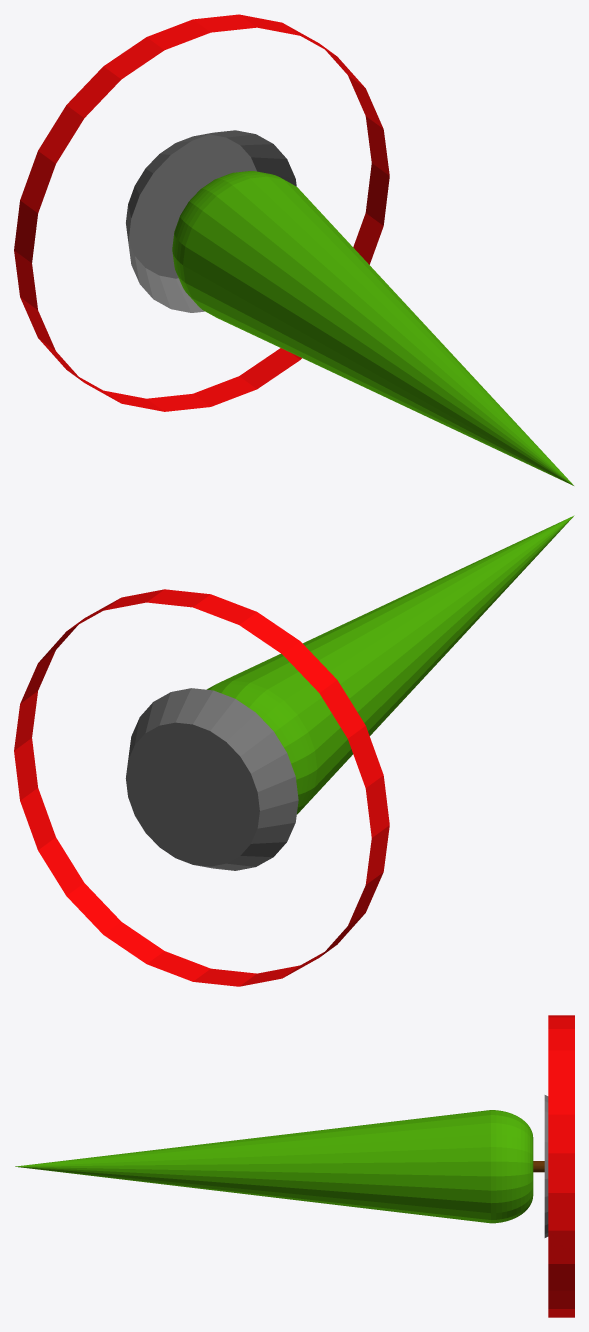
File: HPKK14m.obj
3 views of the same model, one above another, from view 1: azimuth 30°, elevation 25°; view 2: azimuth 150°, elevation 25°; view 3: azimuth 270°, elevation 25° (orthographic). The views are drawn at different scales.
Size of the model in its own units: 8 by 8 by 14.8.
